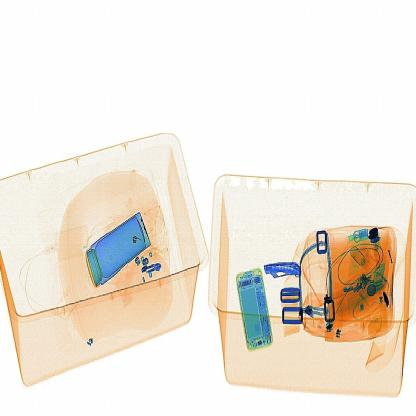knife: (261, 254, 311, 285)
